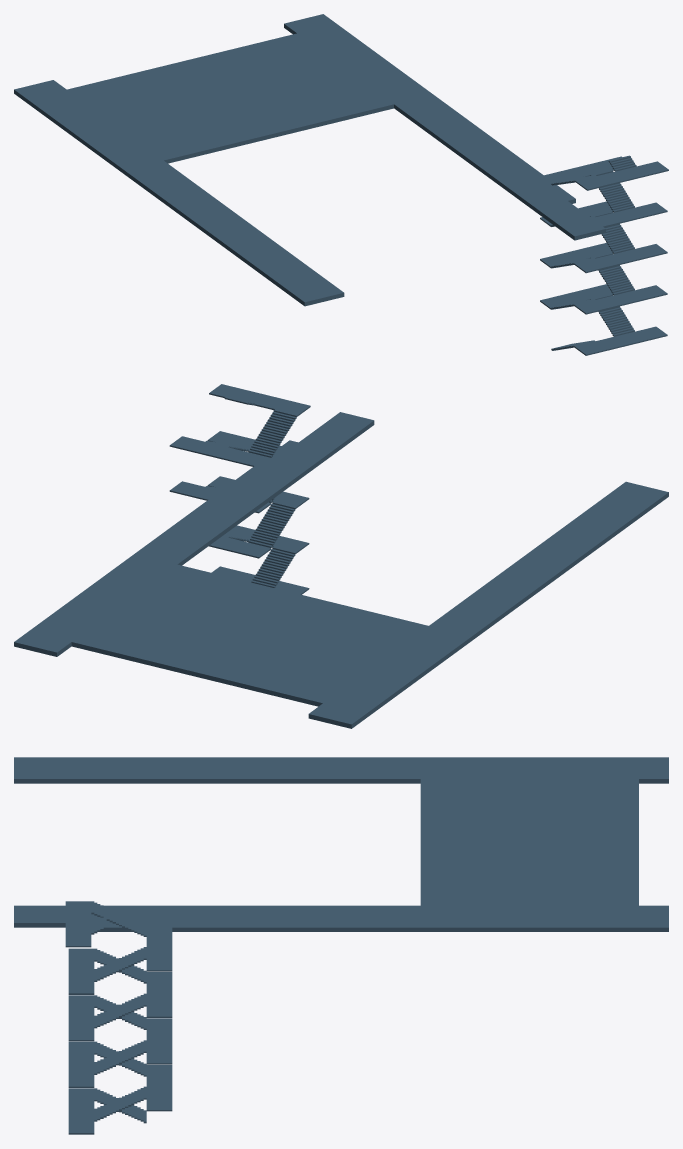
Rendered from v02-00-06-deck.glb.
3 renders of one model, top to bottom at view 1: azimuth 30°, elevation 25°; view 2: azimuth 150°, elevation 25°; view 3: azimuth 270°, elevation 25°, orthographic. The views are drawn at different scales.
Visible parts, largest first — view 1: v02-00-06-deck; view 2: v02-00-06-deck; view 3: v02-00-06-deck.
Boxes of the visible parts, x1,y1,x2,y2 form: v02-00-06-deck: (14,14,668,355); v02-00-06-deck: (14,384,668,728); v02-00-06-deck: (14,757,668,1134).
Bounding box in the file's own units: 58.8 × 27.98 × 76.5.
